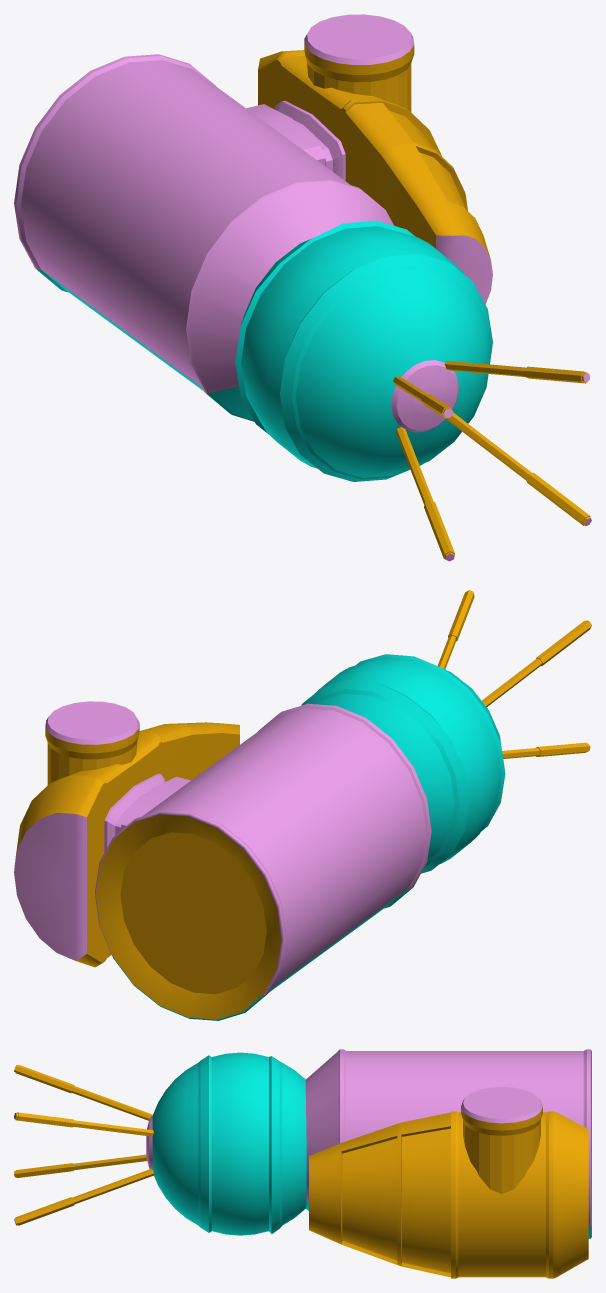
The model's file is playerModel_Unity.fbx.
The picture shows the model from 3 angles, top to bottom: view 1: azimuth 30°, elevation 25°; view 2: azimuth 150°, elevation 25°; view 3: azimuth 270°, elevation 25°; orthographic projection. The views are drawn at different scales.
Visible parts, largest first — view 1: playerSputnik; view 2: playerSputnik; view 3: playerSputnik.
Boxes of the visible parts, x1,y1,x2,y2 form: playerSputnik: (14, 14, 591, 561); playerSputnik: (14, 590, 591, 1020); playerSputnik: (14, 1049, 591, 1278).
Size of the model in its own units: 4.41 by 3.26 by 8.97.
